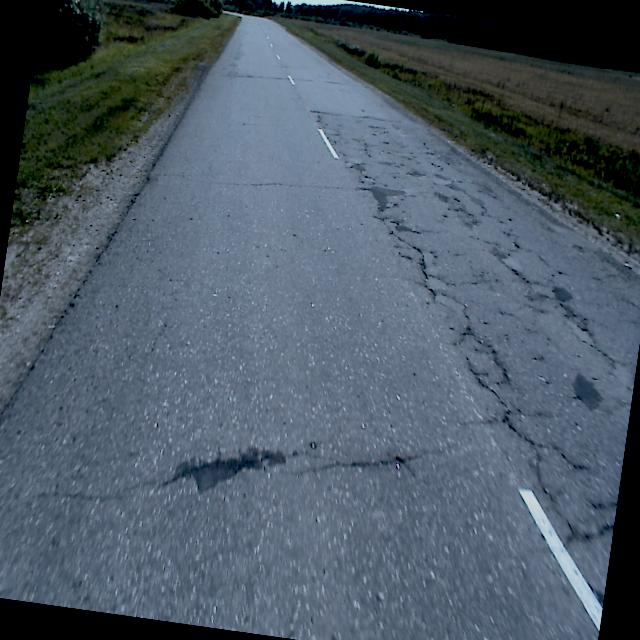road: (0, 15, 640, 640)
